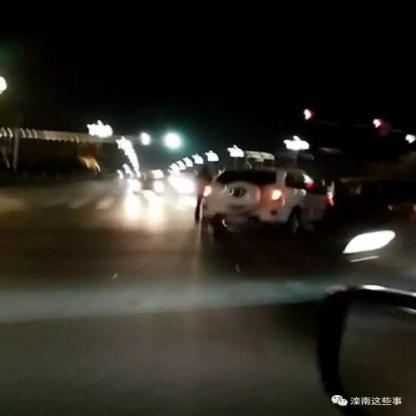other: (79, 113, 199, 203)
